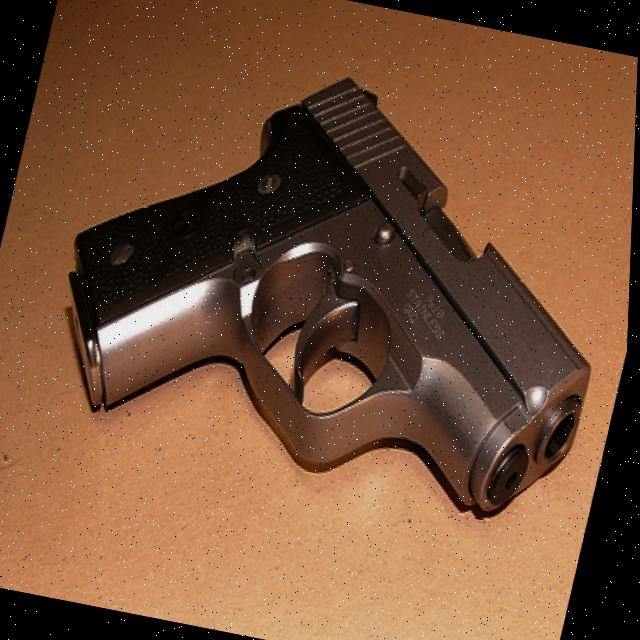pistol: (30, 29, 639, 531)
